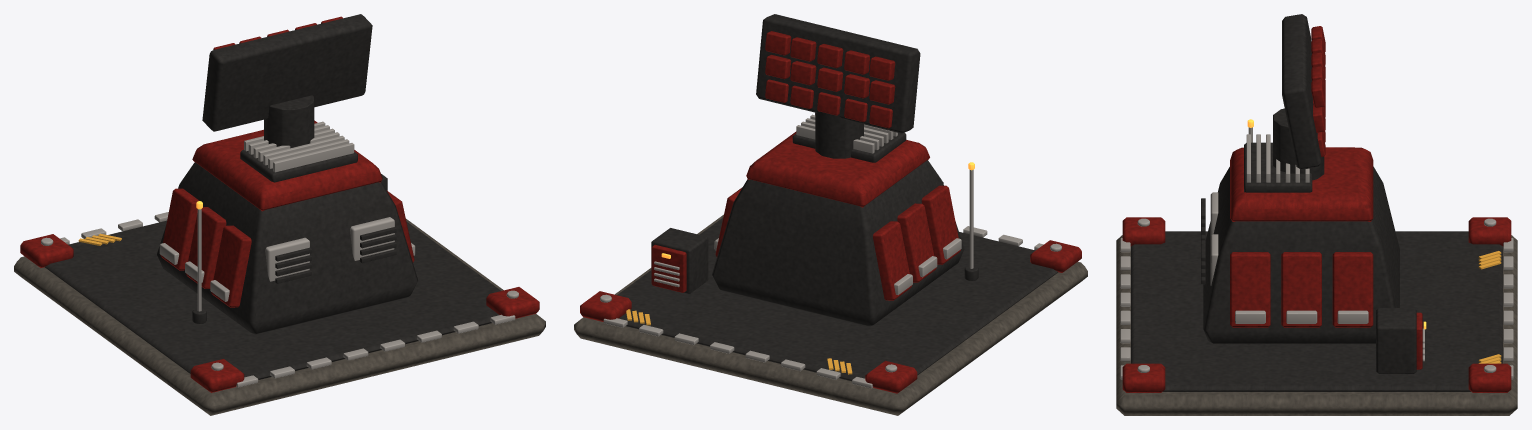
File: kharn_poste_d_ecoute.gltf
3 renders of one model, left to right at view 1: azimuth 30°, elevation 25°; view 2: azimuth 150°, elevation 25°; view 3: azimuth 270°, elevation 25°, orthographic. The views are drawn at different scales.
Parts seen in each view (by area): view 1: Root.001_Geometry, GunPitch_Geometry; view 2: Root.001_Geometry, GunPitch_Geometry; view 3: Root.001_Geometry, GunPitch_Geometry.
Part boxes in pixels (x1=…): Root.001_Geometry: x1=14, y1=95, x2=545, y2=415; GunPitch_Geometry: x1=202, y1=14, x2=372, y2=131; Root.001_Geometry: x1=574, y1=102, x2=1087, y2=415; GunPitch_Geometry: x1=756, y1=14, x2=920, y2=133; Root.001_Geometry: x1=1116, y1=108, x2=1517, y2=415; GunPitch_Geometry: x1=1282, y1=14, x2=1325, y2=169.
Bounding box in the file's own units: 3.94 × 3.08 × 3.94.
6 materials, 3 textured.
